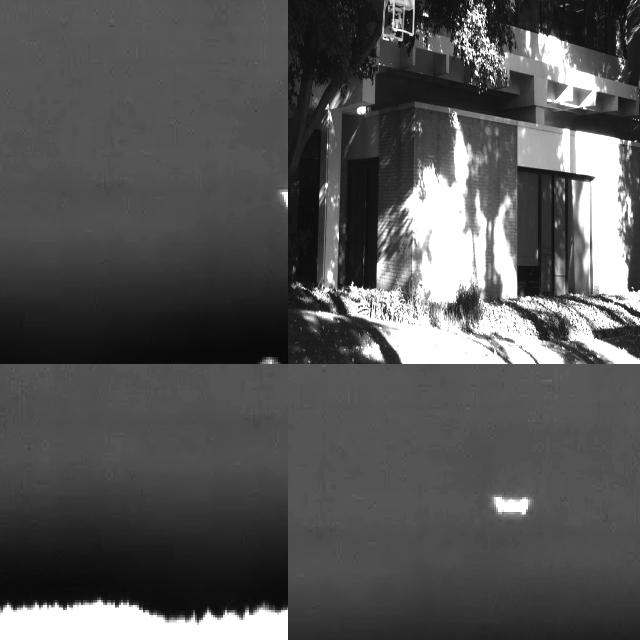1: (483, 490, 543, 524), (271, 184, 288, 219)
drone: (369, 0, 429, 37)
